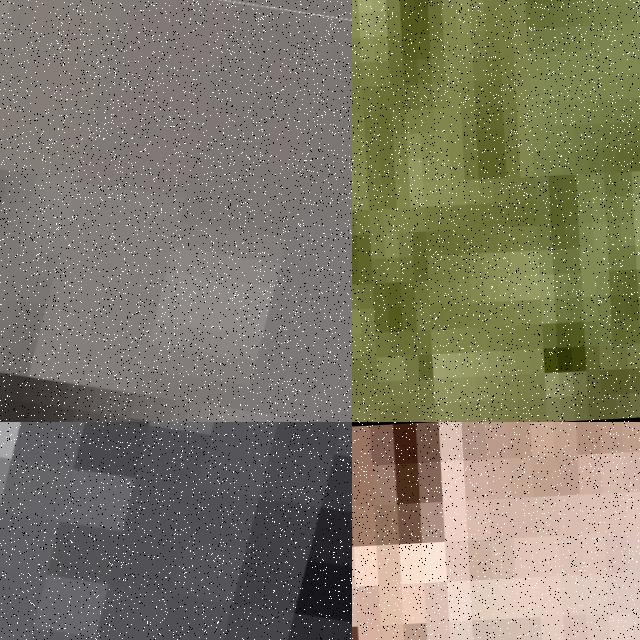0: (0, 0, 352, 422)
drone: (0, 422, 352, 640)
